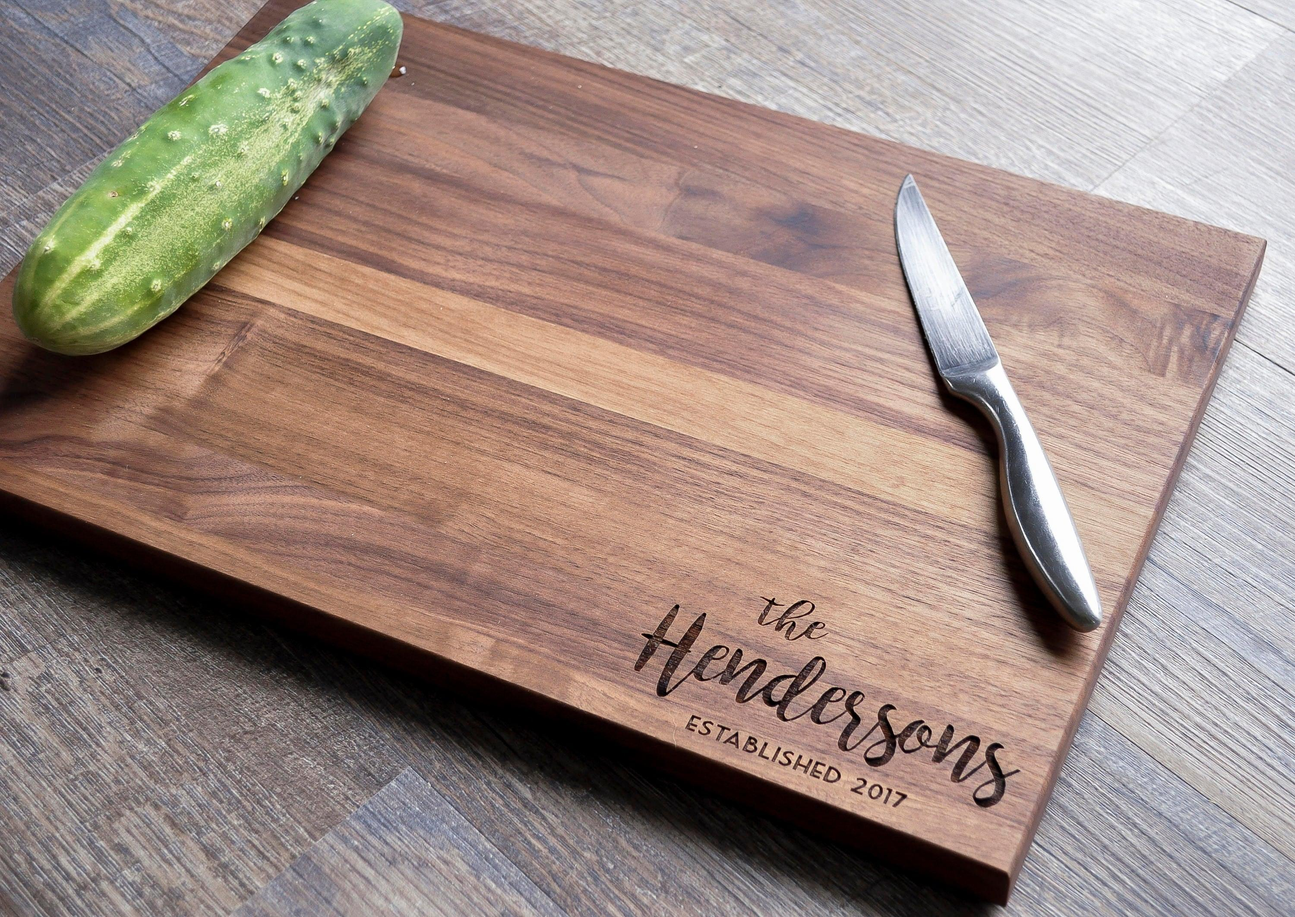gloved_hand: (3, 0, 1280, 917)
